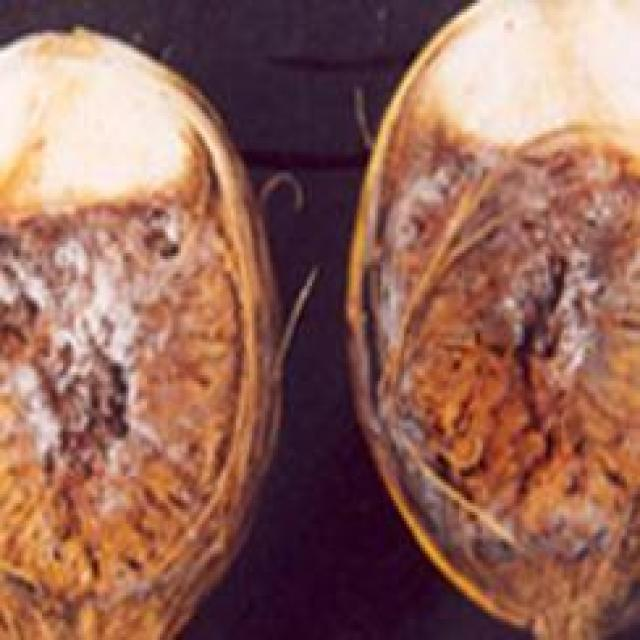damaged: (349, 0, 637, 637), (0, 30, 273, 637)
